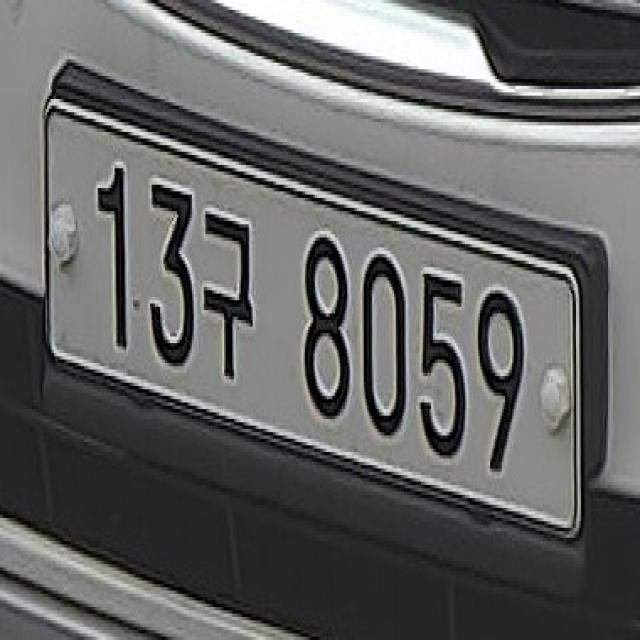0: (359, 227, 416, 448)
1: (86, 142, 140, 369)
3: (142, 158, 200, 383)
5: (414, 250, 472, 472)
8: (293, 224, 359, 426)
9: (472, 280, 537, 495)
gu: (200, 191, 261, 386)
license_plate: (42, 59, 610, 571)
